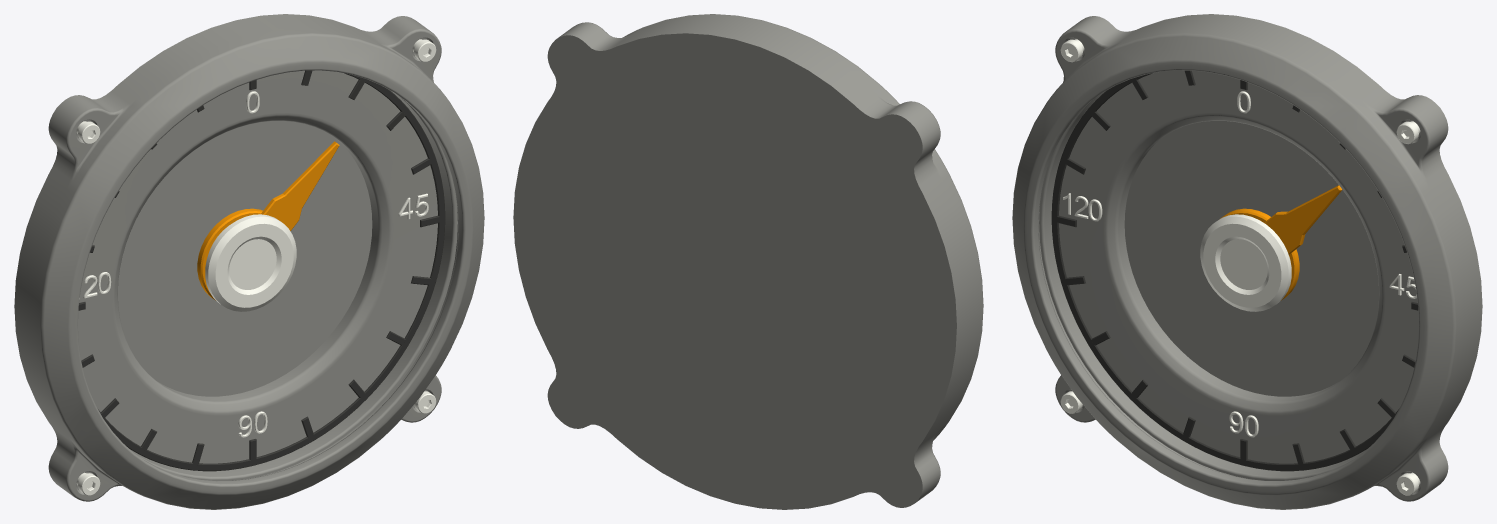
File: Speedometer #8.fbx
3 views of the same model, side by side, from view 1: azimuth 30°, elevation 25°; view 2: azimuth 150°, elevation 25°; view 3: azimuth 330°, elevation 25° (orthographic).
Parts seen in each view (by area): view 1: kitbash_12; view 2: kitbash_12; view 3: kitbash_12.
Boxes of the visible parts, x1,y1,x2,y2 form: kitbash_12: [14, 14, 484, 509]; kitbash_12: [513, 14, 983, 509]; kitbash_12: [1012, 14, 1482, 509].
Size of the model in its own units: 15.13 by 15.13 by 2.08.
